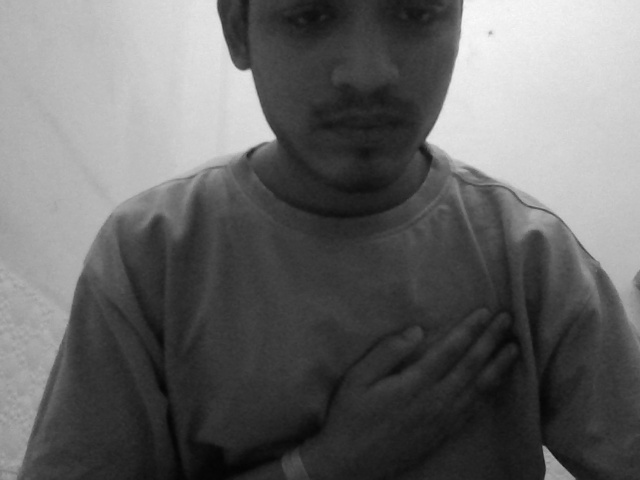Sorry: (303, 294, 541, 470)
